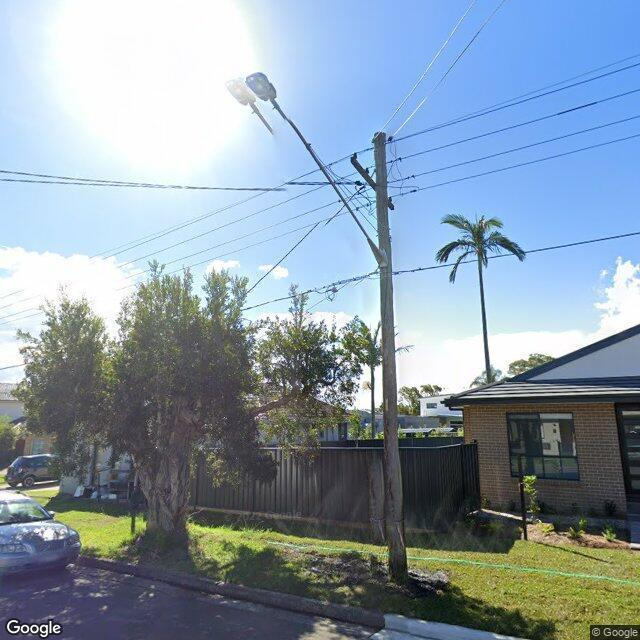crossarm: (348, 155, 396, 212)
streetlight: (225, 70, 390, 266)
timber-pole: (374, 129, 408, 578)
